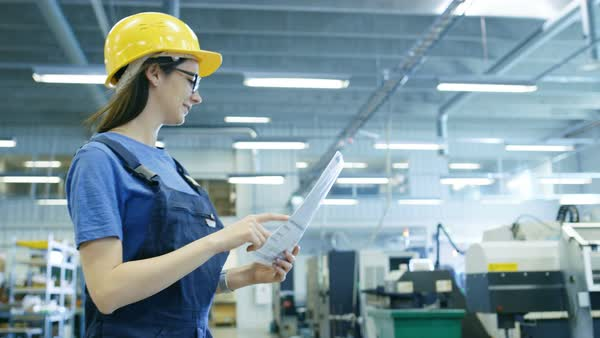Person_wearing_helmet: (93, 7, 230, 95)
